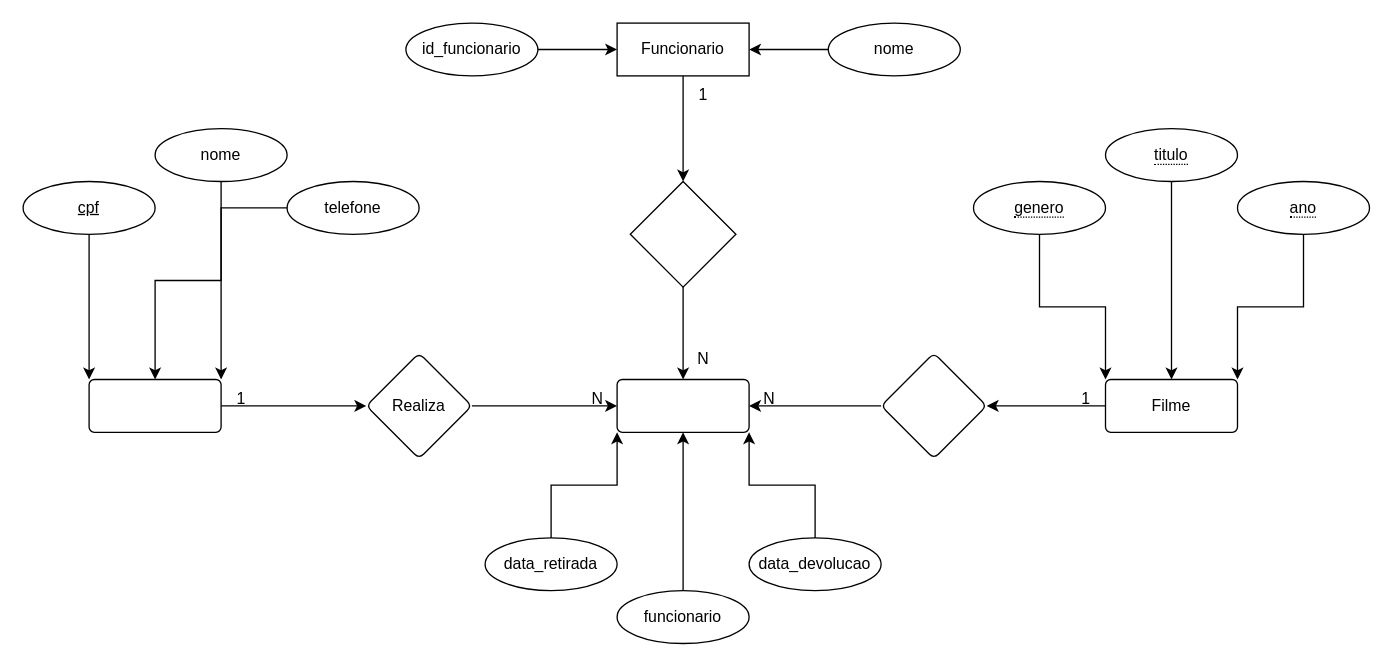
The diagram is 1393 pixels wide and 667 high, and some of its shapes have lost their labels. Each missing label, with the centre of its shape:
"Atende" belongs at (682,233).
"Cliente" belongs at (154,405).
"Emprestimo" belongs at (682,405).
"É Emprestado" belongs at (933,405).
